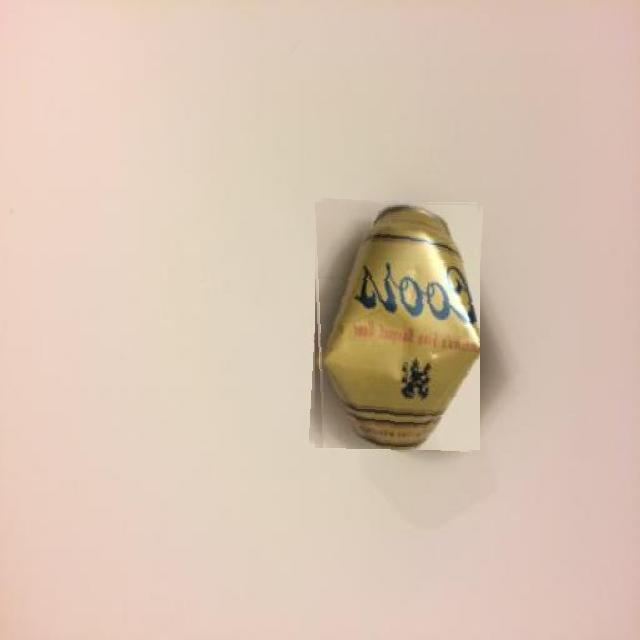recyclable: (312, 200, 480, 450)
